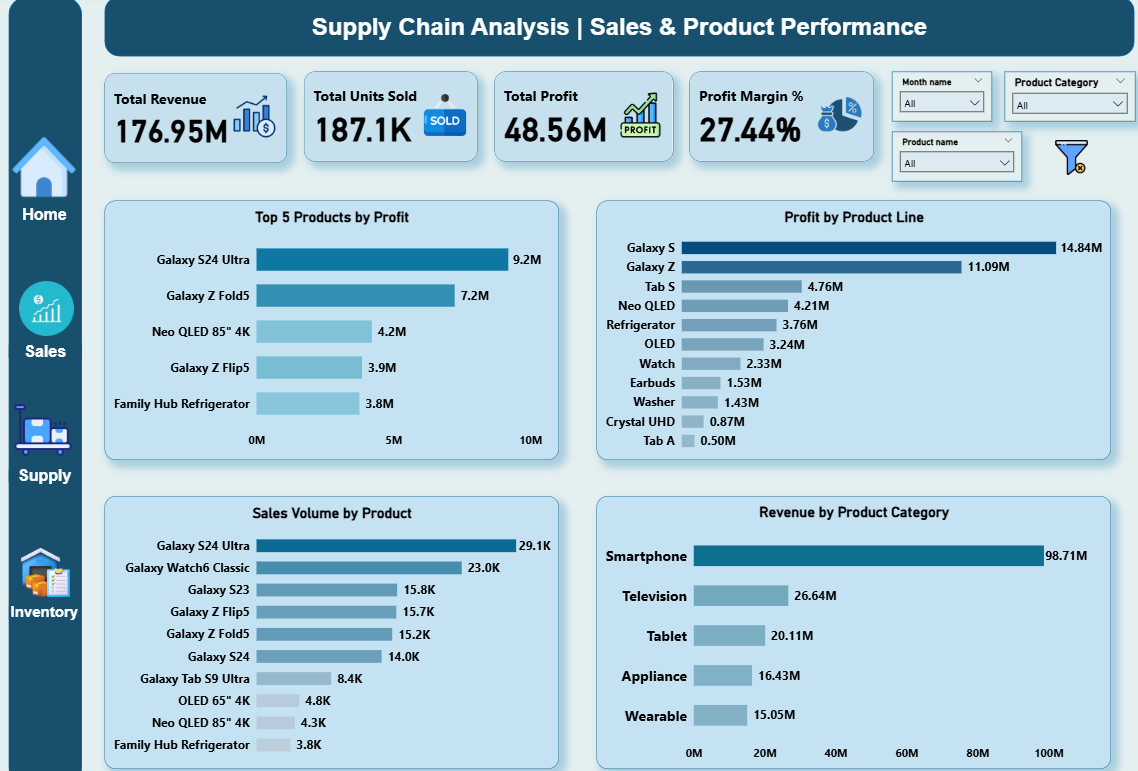

This screenshot's page, from the dashboard's own definition file:
{"tool":"powerbi","page":{"name":"Sales","canvas":[1530,1100],"ordinal":1},"visuals":[{"type":"shape","box":[142.2,17.8,1373.3,80],"z":0},{"type":"shape","box":[14,18,98,1052],"z":1000},{"type":"cardVisual","fields":{"Data":["Measure.Profit Margin %"]},"box":[922.5,118.8,246.2,120],"z":2000},{"type":"clusteredBarChart","title":"Sales Volume by Product","fields":{"Category":["dim_product.product_name"],"Y":["Measure.Total Units Sold"]},"box":[142,684,606,386],"z":3000},{"type":"clusteredBarChart","title":"Revenue by Product Category","fields":{"Category":["dim_product.category"],"Y":["Measure.Total Revenue"]},"box":[798,684,686,386],"z":4000},{"type":"slicer","fields":{"Values":["dim_date.month_name"]},"box":[1192.2,118.9,133.3,66.7],"z":5000},{"type":"slicer","fields":{"Values":["dim_product.product_name"]},"box":[1191.7,198.3,173.3,66.7],"z":6000},{"type":"slicer","fields":{"Values":["dim_product.category"]},"box":[1341.1,118.9,174.4,66.7],"z":7000},{"type":"image","box":[1391.4,204.3,78.6,57.1],"z":8000},{"type":"cardVisual","fields":{"Data":["Measure.Total Revenue"]},"box":[141,119,243,120],"z":9000},{"type":"cardVisual","fields":{"Data":["Measure.Total Units Sold"]},"box":[408.8,118.8,231.2,120],"z":10000},{"type":"cardVisual","fields":{"Data":["Measure.Total Profit"]},"box":[662.5,118.8,238.8,120],"z":11000},{"type":"clusteredBarChart","title":"Top 5 Products by Profit","fields":{"Category":["dim_product.product_name"],"Y":["Measure.Total Profit"]},"box":[142,290,606,346],"z":12000},{"type":"clusteredBarChart","title":"Profit by Product Line","fields":{"Category":["dim_product.product_line"],"Y":["Measure.Total Profit"]},"box":[798,290,686,346],"z":13000}]}

Visuals, with their boxes on the page's 1530x1100 design canvas (x1, y1, x2, y2). These are canvas units, not pixel positions in the 1138x771 screenshot, which may show the page scaled, cropped or inside an application window:
shape: [142,18,1516,98]
shape: [14,18,112,1070]
cardVisual - Measure.Profit Margin %: [922,119,1169,239]
"Sales Volume by Product" clusteredBarChart: [142,684,748,1070]
"Revenue by Product Category" clusteredBarChart: [798,684,1484,1070]
slicer - dim_date.month_name: [1192,119,1326,186]
slicer - dim_product.product_name: [1192,198,1365,265]
slicer - dim_product.category: [1341,119,1516,186]
image: [1391,204,1470,261]
cardVisual - Measure.Total Revenue: [141,119,384,239]
cardVisual - Measure.Total Units Sold: [409,119,640,239]
cardVisual - Measure.Total Profit: [662,119,901,239]
"Top 5 Products by Profit" clusteredBarChart: [142,290,748,636]
"Profit by Product Line" clusteredBarChart: [798,290,1484,636]
